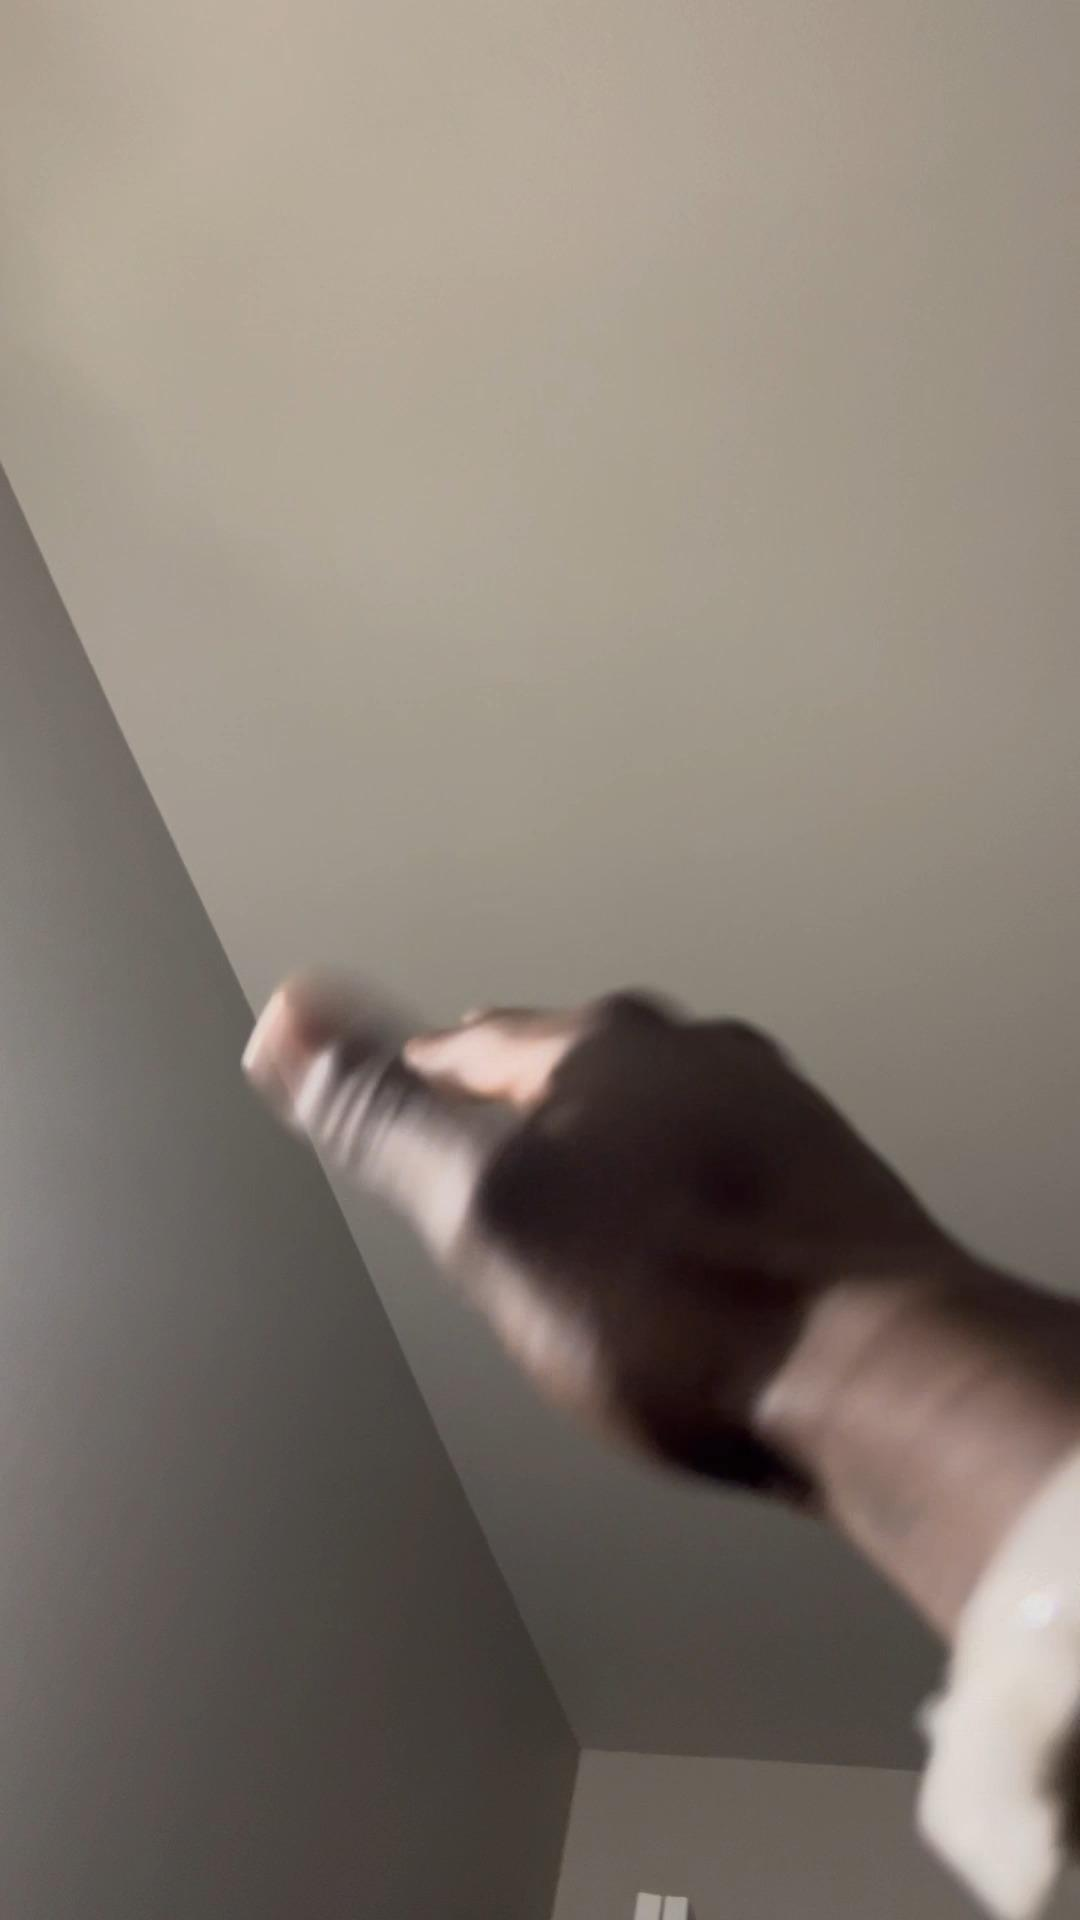Paper: (240, 990, 981, 1498)
